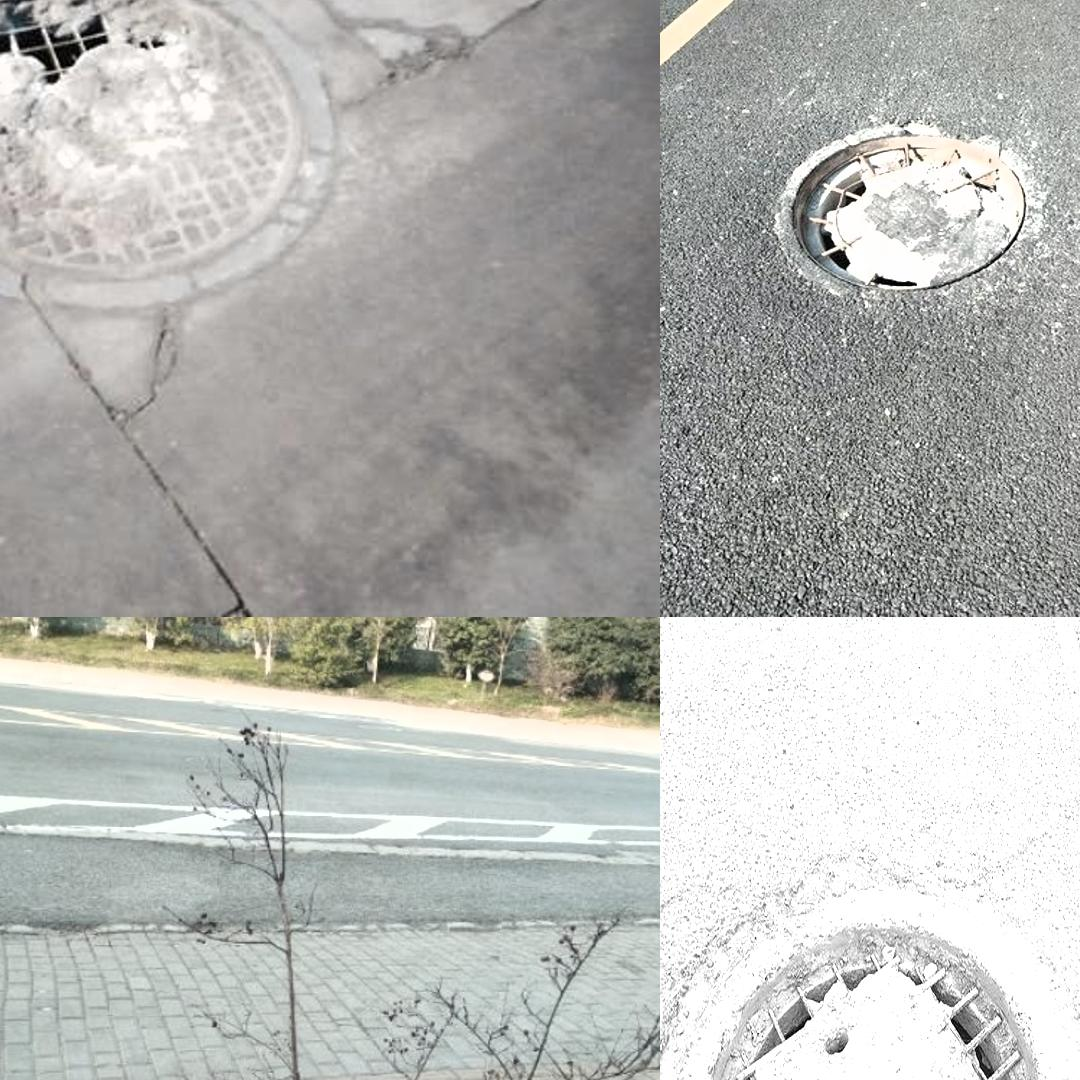broke: (0, 0, 349, 302), (671, 854, 1080, 1080), (768, 106, 1042, 316)
